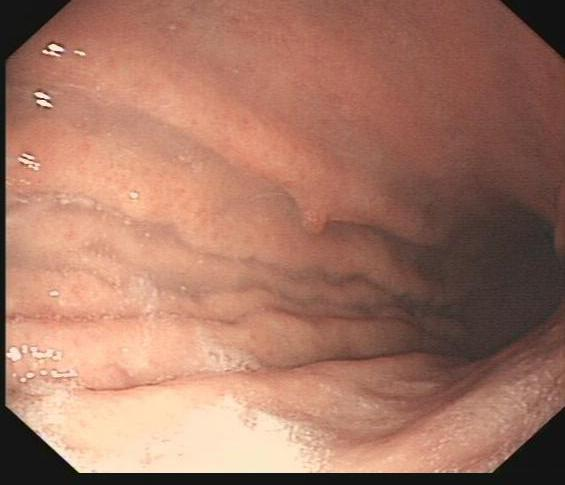Polyp: (293, 187, 344, 261)
